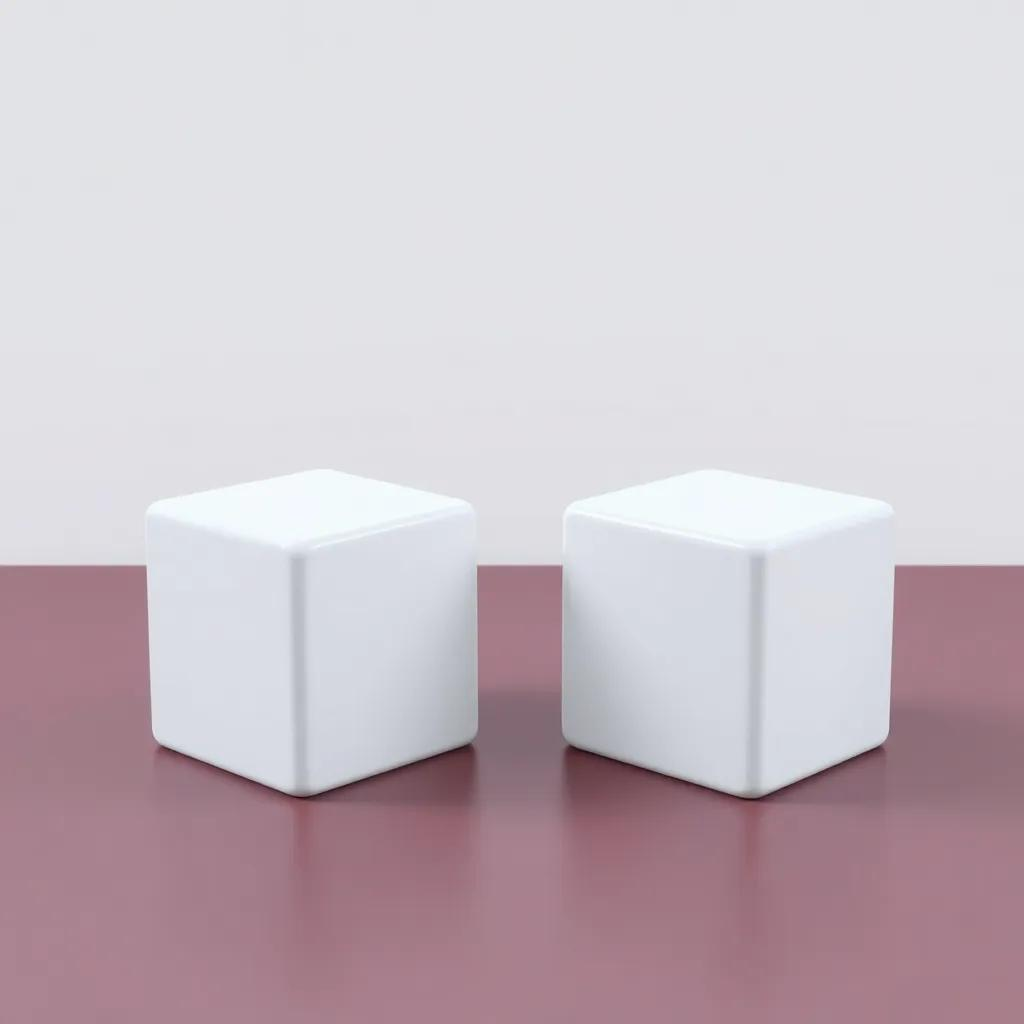cube: (559, 466, 895, 799), (144, 466, 479, 798)
